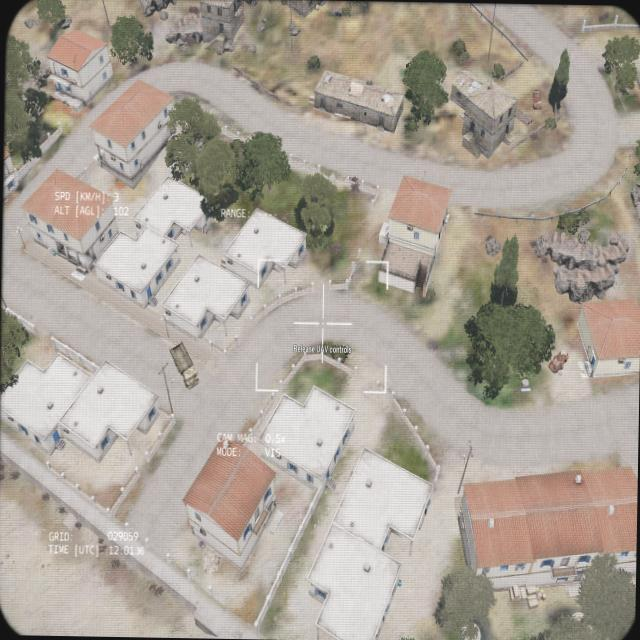truck: (167, 338, 200, 391)
